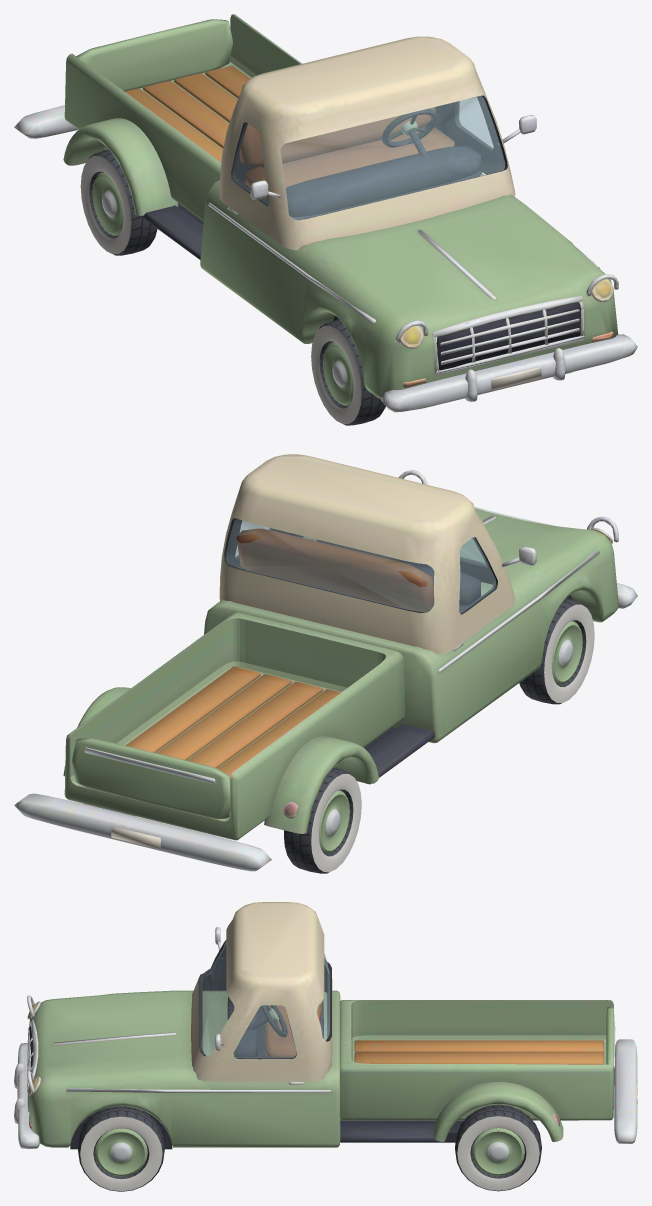
Rendered from pickup50.glb.
3 views of the same model, one above another, from view 1: azimuth 30°, elevation 25°; view 2: azimuth 150°, elevation 25°; view 3: azimuth 270°, elevation 25° (orthographic). The views are drawn at different scales.
Parts seen in each view (by area): view 1: 1950s-pickup-truck_body, 1950s-pickup-truck_windows, 1950s-pickup-truck_tailgate, 1950s-pickup-truck_wheel_rr, 1950s-pickup-truck_wheel_fr; view 2: 1950s-pickup-truck_body, 1950s-pickup-truck_windows, 1950s-pickup-truck_tailgate, 1950s-pickup-truck_wheel_rr, 1950s-pickup-truck_wheel_fr; view 3: 1950s-pickup-truck_body, 1950s-pickup-truck_wheel_rl, 1950s-pickup-truck_wheel_fl, 1950s-pickup-truck_windows, 1950s-pickup-truck_tailgate.
Boxes of the visible parts, bbox=[...] form: 1950s-pickup-truck_body: bbox=[14, 14, 637, 412]; 1950s-pickup-truck_windows: bbox=[233, 96, 504, 219]; 1950s-pickup-truck_tailgate: bbox=[76, 19, 232, 91]; 1950s-pickup-truck_wheel_rr: bbox=[80, 149, 157, 255]; 1950s-pickup-truck_wheel_fr: bbox=[311, 319, 385, 425]; 1950s-pickup-truck_body: bbox=[14, 454, 637, 871]; 1950s-pickup-truck_windows: bbox=[227, 518, 495, 613]; 1950s-pickup-truck_tailgate: bbox=[72, 738, 230, 819]; 1950s-pickup-truck_wheel_rr: bbox=[284, 767, 361, 873]; 1950s-pickup-truck_wheel_fr: bbox=[519, 598, 594, 704]; 1950s-pickup-truck_body: bbox=[14, 902, 637, 1149]; 1950s-pickup-truck_wheel_rl: bbox=[455, 1104, 541, 1191]; 1950s-pickup-truck_wheel_fl: bbox=[77, 1106, 164, 1191]; 1950s-pickup-truck_windows: bbox=[200, 940, 329, 1057]; 1950s-pickup-truck_tailgate: bbox=[606, 1006, 615, 1085].
Bounding box in the file's own units: 2.26 × 1.94 × 5.29.
Materials: 8 (2 with a texture image).
